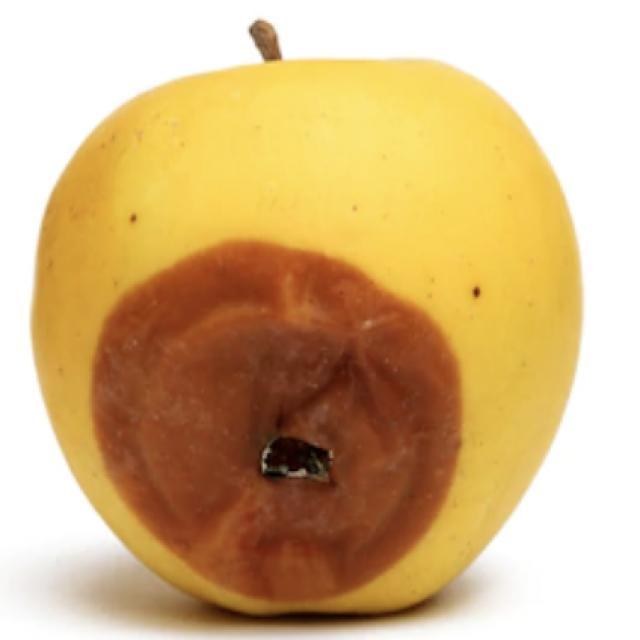Rotten: (39, 53, 580, 618)
